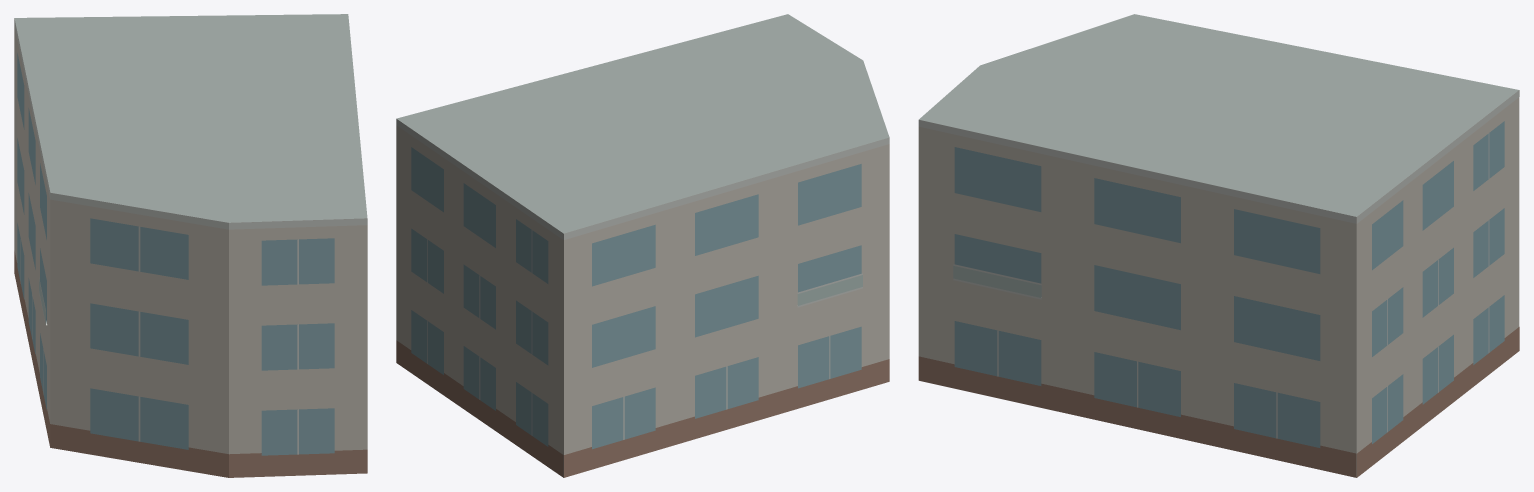
File: survey-upis-32674458.glb
3 views of the same model, side by side, from view 1: azimuth 30°, elevation 25°; view 2: azimuth 150°, elevation 25°; view 3: azimuth 270°, elevation 25° (orthographic). The views are drawn at different scales.
Visible parts, largest first — view 1: survey-upis-32674458.tmp; view 2: survey-upis-32674458.tmp; view 3: survey-upis-32674458.tmp.
Part boxes in pixels (bbox=[...]): survey-upis-32674458.tmp: bbox=[14, 14, 367, 477]; survey-upis-32674458.tmp: bbox=[396, 14, 889, 477]; survey-upis-32674458.tmp: bbox=[918, 14, 1519, 477].
Bounding box in the file's own units: 15.28 × 9.15 × 19.11.
